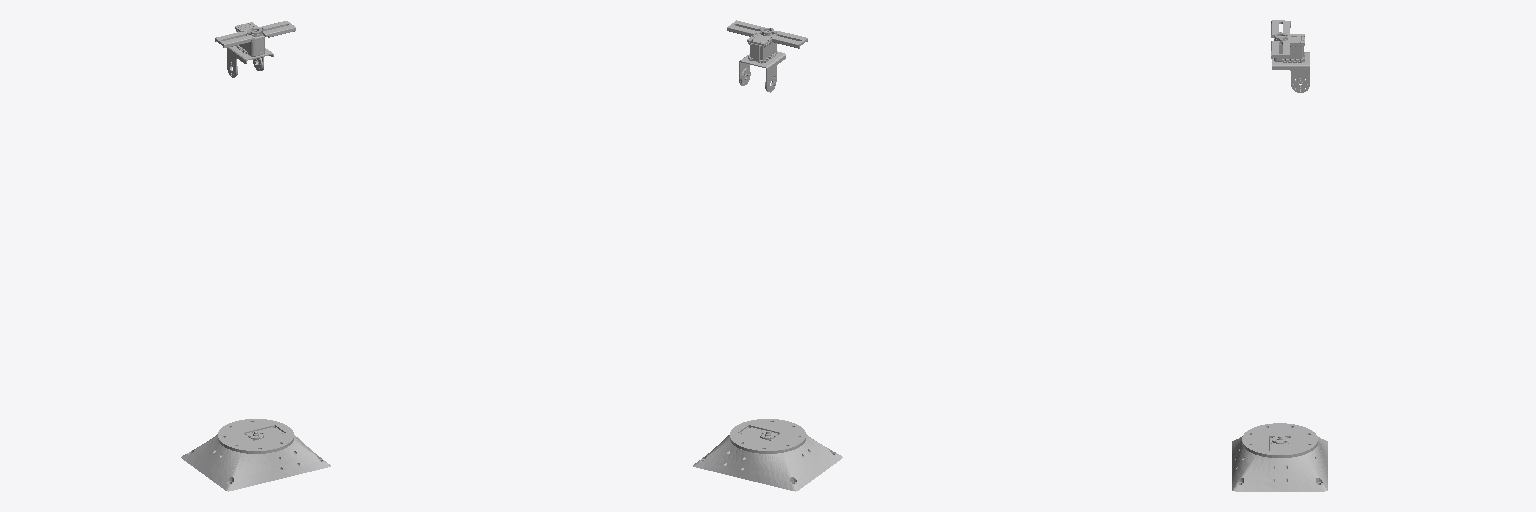
The robot description file, URDF, robot "urdf_manipulator":
<?xml version="1.0" encoding="utf-8"?>
<!-- This URDF was automatically created by SolidWorks to URDF Exporter! Originally created by Stephen Brawner ([email redacted]) 
     Commit Version: 1.6.0-1-g15f4949  Build Version: 1.6.7594.29634
     For more information, please see http://wiki.ros.org/sw_urdf_exporter -->
<robot
  name="urdf_manipulator">
  <link
    name="base_link">
    <inertial>
      <origin
        xyz="-0.000389253363450158 -2.22107228316211E-08 0.0190986509331325"
        rpy="0 0 0" />
      <mass
        value="0.998884052409043" />
      <inertia
        ixx="0.00153555230282343"
        ixy="-5.26477667411161E-08"
        ixz="5.27833756567881E-06"
        iyy="0.0020826749681085"
        iyz="7.83294080103356E-10"
        izz="0.0033613800402648" />
    </inertial>
    <visual>
      <origin
        xyz="0 0 0"
        rpy="0 0 0" />
      <geometry>
        <mesh
          filename="package://urdf_manipulator/meshes/base_link.STL" />
      </geometry>
      <material
        name="">
        <color
          rgba="0.752941176470588 0.752941176470588 0.752941176470588 1" />
      </material>
    </visual>
    <collision>
      <origin
        xyz="0 0 0"
        rpy="0 0 0" />
      <geometry>
        <mesh
          filename="package://urdf_manipulator/meshes/base_link.STL" />
      </geometry>
    </collision>
  </link>
  <link
    name="link_1">
    <inertial>
      <origin
        xyz="-0.00031030880564265 0.00858811851828671 0.0175565041510017"
        rpy="0 0 0" />
      <mass
        value="0.185821769445055" />
      <inertia
        ixx="0.000114508954668787"
        ixy="-1.61883570331381E-07"
        ixz="8.34624055343117E-14"
        iyy="9.70669043908046E-05"
        iyz="2.45858972240209E-06"
        izz="0.000186683444251279" />
    </inertial>
    <visual>
      <origin
        xyz="0 0 0"
        rpy="0 0 0" />
      <geometry>
        <mesh
          filename="package://urdf_manipulator/meshes/link_1.STL" />
      </geometry>
      <material
        name="">
        <color
          rgba="0.752941176470588 0.752941176470588 0.752941176470588 1" />
      </material>
    </visual>
    <collision>
      <origin
        xyz="0 0 0"
        rpy="0 0 0" />
      <geometry>
        <mesh
          filename="package://urdf_manipulator/meshes/link_1.STL" />
      </geometry>
    </collision>
  </link>
  <joint
    name="joint_1"
    type="continuous">
    <origin
      xyz="0 0 0.0465"
      rpy="0 0 -0.003602" />
    <parent
      link="base_link" />
    <child
      link="link_1" />
    <axis
      xyz="0 0 1" />
  </joint>
  <link
    name="link_2">
    <inertial>
      <origin
        xyz="0.214940656225411 -0.00302610888444859 -0.000524095480016116"
        rpy="0 0 0" />
      <mass
        value="0.177693654848771" />
      <inertia
        ixx="0.000101230360035866"
        ixy="-6.59102546085614E-06"
        ixz="-1.97978692210085E-13"
        iyy="0.000776536430152929"
        iyz="3.16142089929914E-07"
        izz="0.000744380292404554" />
    </inertial>
    <visual>
      <origin
        xyz="0 0 0"
        rpy="0 0 0" />
      <geometry>
        <mesh
          filename="package://urdf_manipulator/meshes/link_2.STL" />
      </geometry>
      <material
        name="">
        <color
          rgba="0.752941176470588 0.752941176470588 0.752941176470588 1" />
      </material>
    </visual>
    <collision>
      <origin
        xyz="0 0 0"
        rpy="0 0 0" />
      <geometry>
        <mesh
          filename="package://urdf_manipulator/meshes/link_2.STL" />
      </geometry>
    </collision>
  </link>
  <joint
    name="joint_2"
    type="revolute">
    <origin
      xyz="0 0 0.0305"
      rpy="3.1416 -1.5708 0" />
    <parent
      link="link_1" />
    <child
      link="link_2" />
    <axis
      xyz="0 0 -1" />
    <limit
      lower="-0.8"
      upper="1.7"
      effort="0"
      velocity="0" />
  </joint>
  <link
    name="link_3">
    <inertial>
      <origin
        xyz="0.197497508435358 0.00242647613318699 -0.000695439790085717"
        rpy="0 0 0" />
      <mass
        value="0.165504845537909" />
      <inertia
        ixx="7.71736334227953E-05"
        ixy="-1.14123152510865E-05"
        ixz="-3.16141783398318E-07"
        iyy="0.000606239282129823"
        iyz="-1.20363410206295E-09"
        izz="0.000568330445759073" />
    </inertial>
    <visual>
      <origin
        xyz="0 0 0"
        rpy="0 0 0" />
      <geometry>
        <mesh
          filename="package://urdf_manipulator/meshes/link_3.STL" />
      </geometry>
      <material
        name="">
        <color
          rgba="0.752941176470588 0.752941176470588 0.752941176470588 1" />
      </material>
    </visual>
    <collision>
      <origin
        xyz="0 0 0"
        rpy="0 0 0" />
      <geometry>
        <mesh
          filename="package://urdf_manipulator/meshes/link_3.STL" />
      </geometry>
    </collision>
  </link>
  <joint
    name="joint_3"
    type="revolute">
    <origin
      xyz="0.2992 -0.0316 0"
      rpy="0 0 0" />
    <parent
      link="link_2" />
    <child
      link="link_3" />
    <axis
      xyz="0 0 -1" />
    <limit
      lower="-0.6"
      upper="2.95"
      effort="0"
      velocity="0" />
  </joint>
  <link
    name="link_4">
    <inertial>
      <origin
        xyz="0.0433079332622105 0.0179483567578146 -0.000332863244781619"
        rpy="0 0 0" />
      <mass
        value="0.0881895702260829" />
      <inertia
        ixx="3.69742495119384E-05"
        ixy="-1.88523373751598E-06"
        ixz="-1.49720289687486E-09"
        iyy="2.80669267703083E-05"
        iyz="1.03142420121299E-08"
        izz="2.67957172555677E-05" />
    </inertial>
    <visual>
      <origin
        xyz="0 0 0"
        rpy="0 0 0" />
      <geometry>
        <mesh
          filename="package://urdf_manipulator/meshes/link_4.STL" />
      </geometry>
      <material
        name="">
        <color
          rgba="0.752941176470588 0.752941176470588 0.752941176470588 1" />
      </material>
    </visual>
    <collision>
      <origin
        xyz="0 0 0"
        rpy="0 0 0" />
      <geometry>
        <mesh
          filename="package://urdf_manipulator/meshes/link_4.STL" />
      </geometry>
    </collision>
  </link>
  <joint
    name="joint_4"
    type="revolute">
    <origin
      xyz="0.2967 -0.00185 0"
      rpy="0 0 0" />
    <parent
      link="link_3" />
    <child
      link="link_4" />
    <axis
      xyz="0 0 1" />
    <limit
      lower="-2"
      upper="1.75"
      effort="0"
      velocity="0" />
  </joint>
  <link
    name="end_effector">
    <inertial>
      <origin
        xyz="-2.58402023736726E-13 8.91963369484272E-14 0.00153480871595302"
        rpy="0 0 0" />
      <mass
        value="0.00087155581094016" />
      <inertia
        ixx="4.81778179564309E-08"
        ixy="1.40775800498868E-22"
        ixz="8.54751513362795E-24"
        iyy="2.53018532990969E-08"
        iyz="2.36132539112655E-22"
        izz="7.21542244154594E-08" />
    </inertial>
    <visual>
      <origin
        xyz="0 0 0"
        rpy="0 0 0" />
      <geometry>
        <mesh
          filename="package://urdf_manipulator/meshes/end_effector.STL" />
      </geometry>
      <material
        name="">
        <color
          rgba="0.698039215686274 0.698039215686274 0.698039215686274 1" />
      </material>
    </visual>
    <collision>
      <origin
        xyz="0 0 0"
        rpy="0 0 0" />
      <geometry>
        <mesh
          filename="package://urdf_manipulator/meshes/end_effector.STL" />
      </geometry>
    </collision>
  </link>
  <joint
    name="end_effector"
    type="revolute">
    <origin
      xyz="0.070005 0.032129 -0.0004"
      rpy="1.5708 -0.039089 1.5708" />
    <parent
      link="link_4" />
    <child
      link="end_effector" />
    <axis
      xyz="0 0 1" />
    <limit
      lower="0"
      upper="3.14"
      effort="0"
      velocity="0" />
  </joint>
</robot>

--- Render facts (derived) ---
3 views of the same robot in one strip: view 1: azimuth 30°, elevation 25°; view 2: azimuth 150°, elevation 25°; view 3: azimuth 270°, elevation 25° (orthographic).
Model urdf_manipulator with 6 links and 5 joints (4 revolute, 1 continuous), rooted at base_link, posed every joint at zero.
Visible links, largest first — view 1: base_link, link_4; view 2: base_link, link_4; view 3: base_link, link_4.
Link boxes in pixels (<box>): base_link: <box>181,419,330,491</box>; link_4: <box>215,21,295,77</box>; base_link: <box>693,419,842,491</box>; link_4: <box>727,20,807,92</box>; base_link: <box>1232,423,1327,491</box>; link_4: <box>1271,20,1309,92</box>.
Size in the robot's own frame: 0.19 by 0.15 by 0.7484 metres.
Meshes: 6 distinct files referenced, 3 mesh visuals loaded (3 binary STL); not drawn: 3 (reference not matched to a file when rendering).
